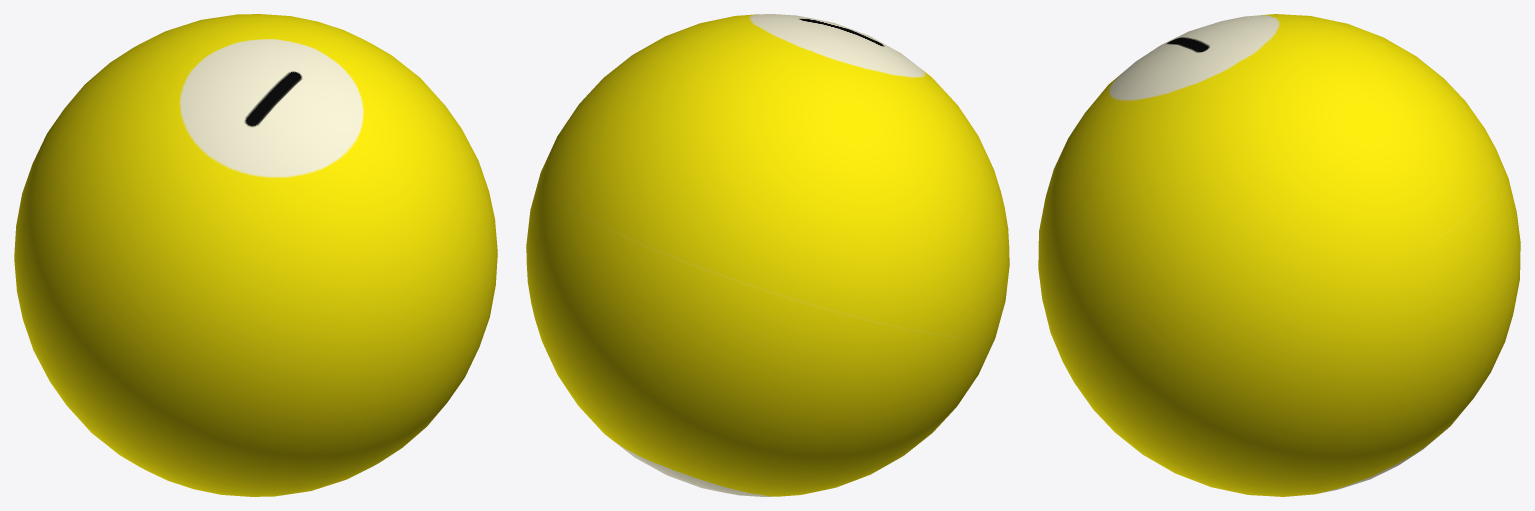
Rendered from bola1.obj.
The picture shows the model from 3 angles, left to right: view 1: azimuth 30°, elevation 25°; view 2: azimuth 150°, elevation 25°; view 3: azimuth 270°, elevation 25°; orthographic projection.
Parts seen in each view (by area): view 1: 1_Ball; view 2: 1_Ball; view 3: 1_Ball.
Part boxes in pixels (x1,y1,x2,y2): 1_Ball: [14, 14, 497, 496]; 1_Ball: [526, 14, 1009, 496]; 1_Ball: [1038, 14, 1520, 496].
Bounding box in the file's own units: 0.0509 × 0.0508 × 0.0509.
Materials: 1 (1 with a texture image).
